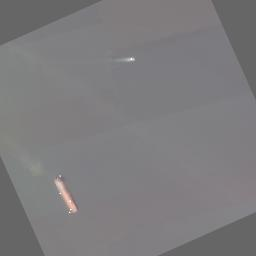boat: (53, 174, 77, 214), (131, 56, 134, 59)
